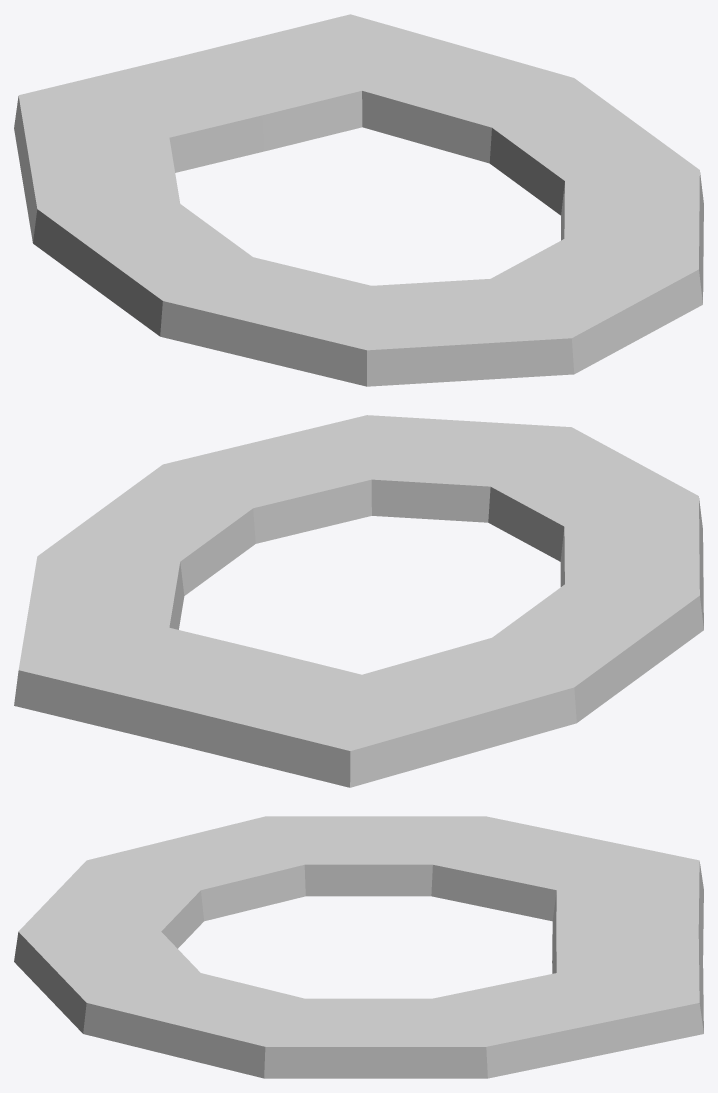
Rendered from SM_Prop_Toilet_01_Seat.obj.
3 views of the same model, one above another, from view 1: azimuth 30°, elevation 25°; view 2: azimuth 150°, elevation 25°; view 3: azimuth 270°, elevation 25° (orthographic). The views are drawn at different scales.
Visible parts, largest first — view 1: SM_Prop_Toilet_01_Seat_0; view 2: SM_Prop_Toilet_01_Seat_0; view 3: SM_Prop_Toilet_01_Seat_0.
Part boxes in pixels (x1=…): SM_Prop_Toilet_01_Seat_0: x1=14, y1=14, x2=703, y2=386; SM_Prop_Toilet_01_Seat_0: x1=14, y1=415, x2=703, y2=787; SM_Prop_Toilet_01_Seat_0: x1=14, y1=816, x2=703, y2=1078.
Size of the model in its own units: 0.4361 by 0.0264 by 0.5448.
Materials: 1 (1 with a texture image).
